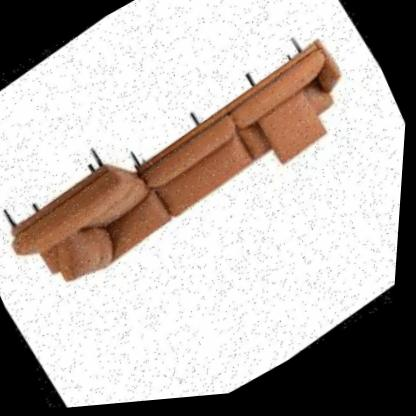Sofa: (0, 23, 379, 317)
